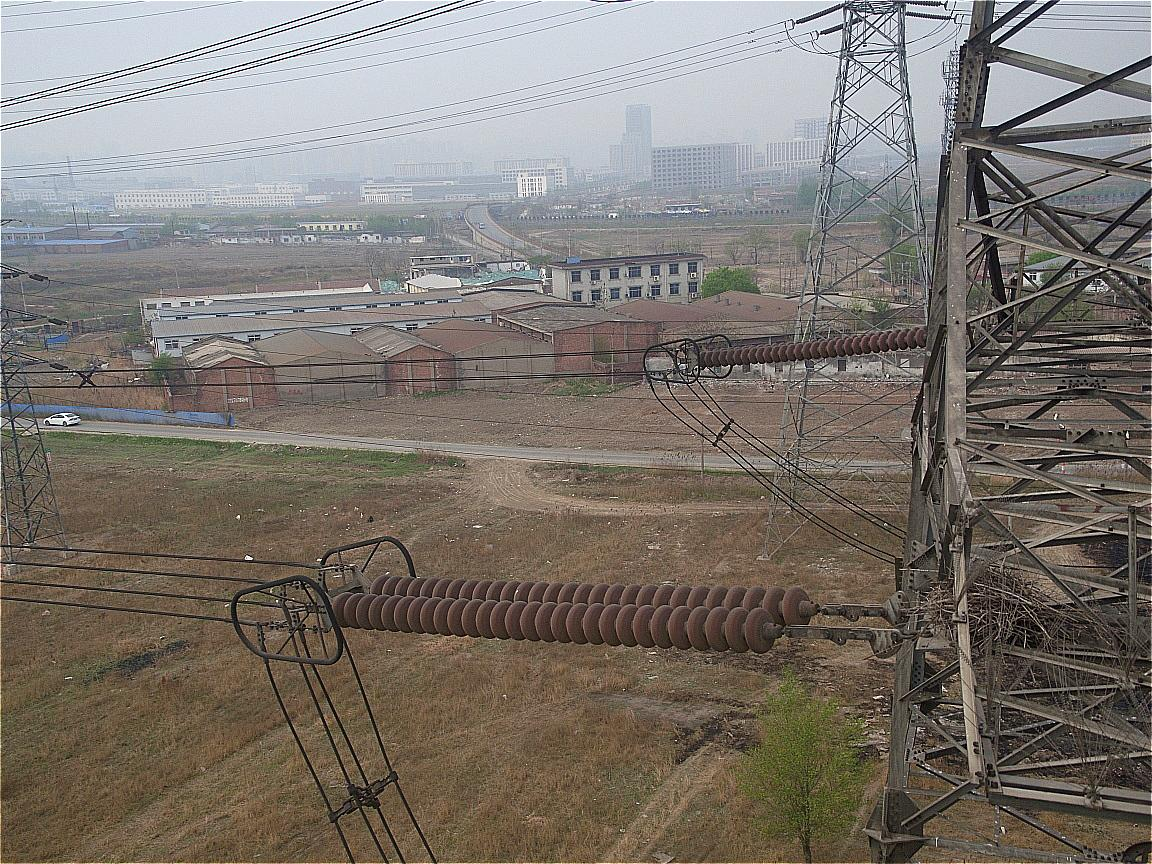insultor1: (334, 576, 807, 654), (698, 329, 926, 369)
